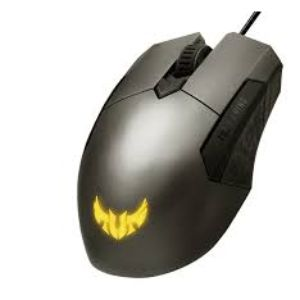mouse: (74, 16, 285, 285)
